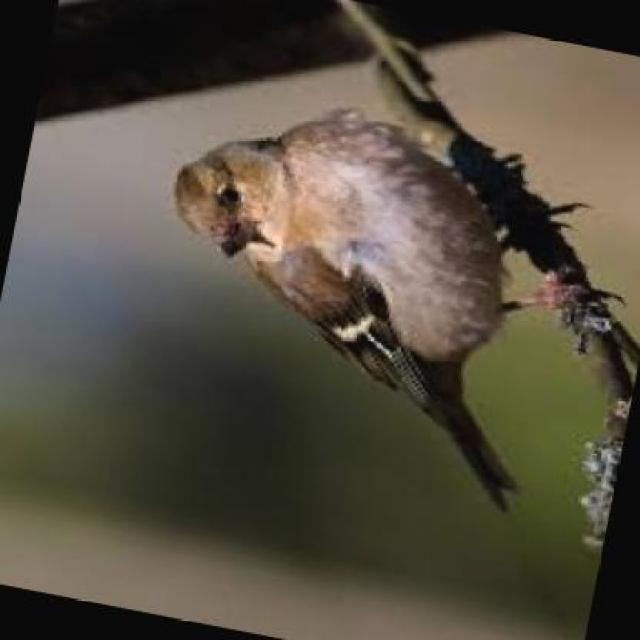Bird: (152, 103, 572, 513)
